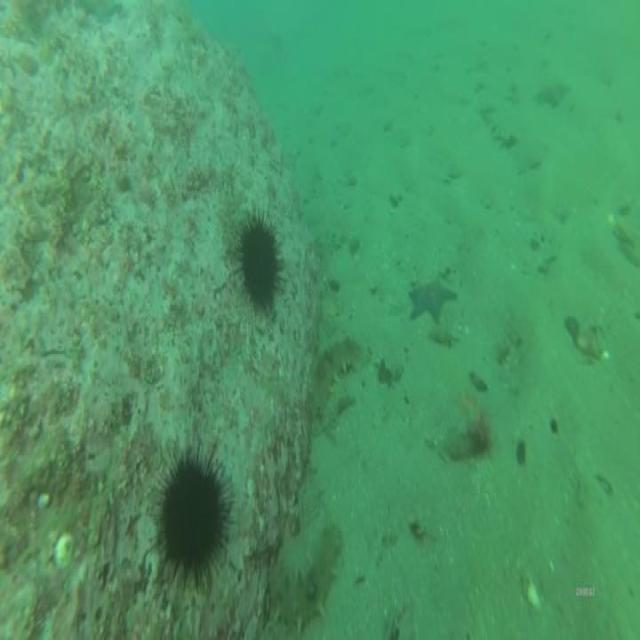echinus: (158, 446, 224, 597), (237, 212, 282, 324)
holothurian: (268, 518, 346, 637), (306, 329, 364, 420)
starfish: (406, 267, 457, 329)
waterweeds: (443, 393, 497, 471)
